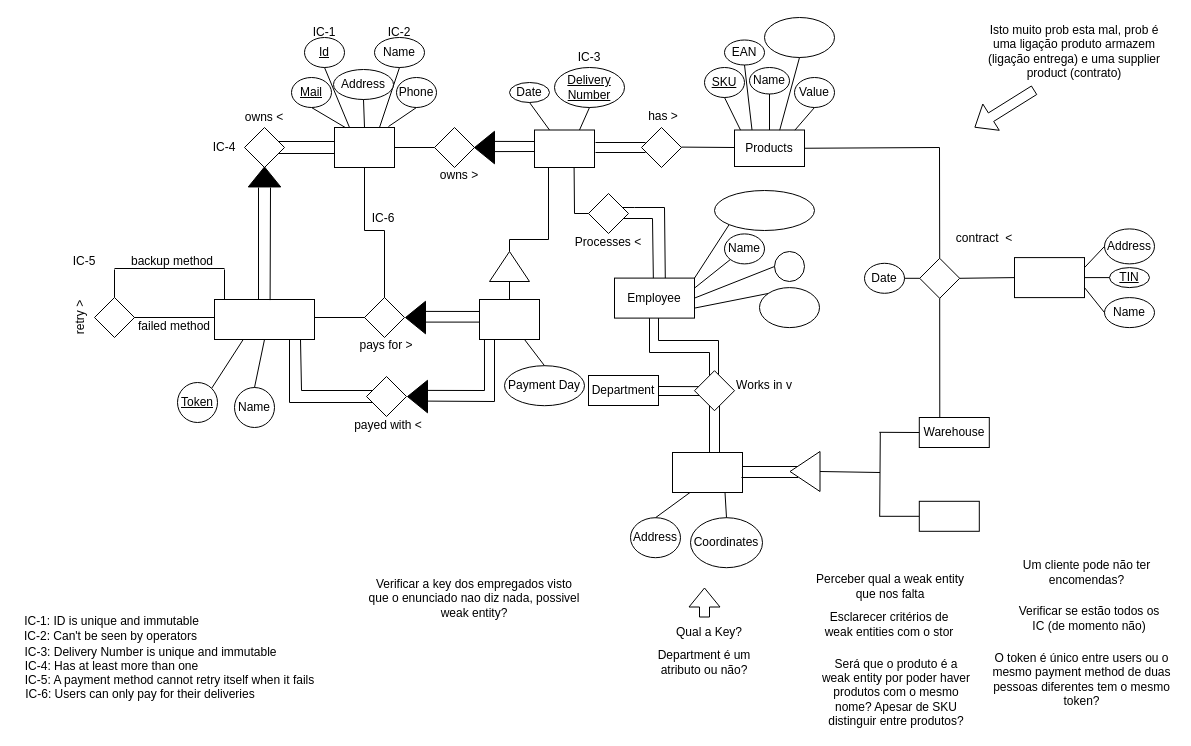
The diagram is 1191 pixels wide and 746 high, and some of its shapes have lost their labels. The centre of each missing label's shape, as x and y in pixels:
Birthdate: the point at 789,307
Delivery: the point at 564,148
Description: the point at 799,37
NIF: the point at 789,266
Office: the point at 948,515
Payment Method: the point at 264,319
Sale: the point at 509,319
Social Security Number: the point at 764,210
Supplier: the point at 1049,277
User: the point at 364,147
Workplace: the point at 707,472
